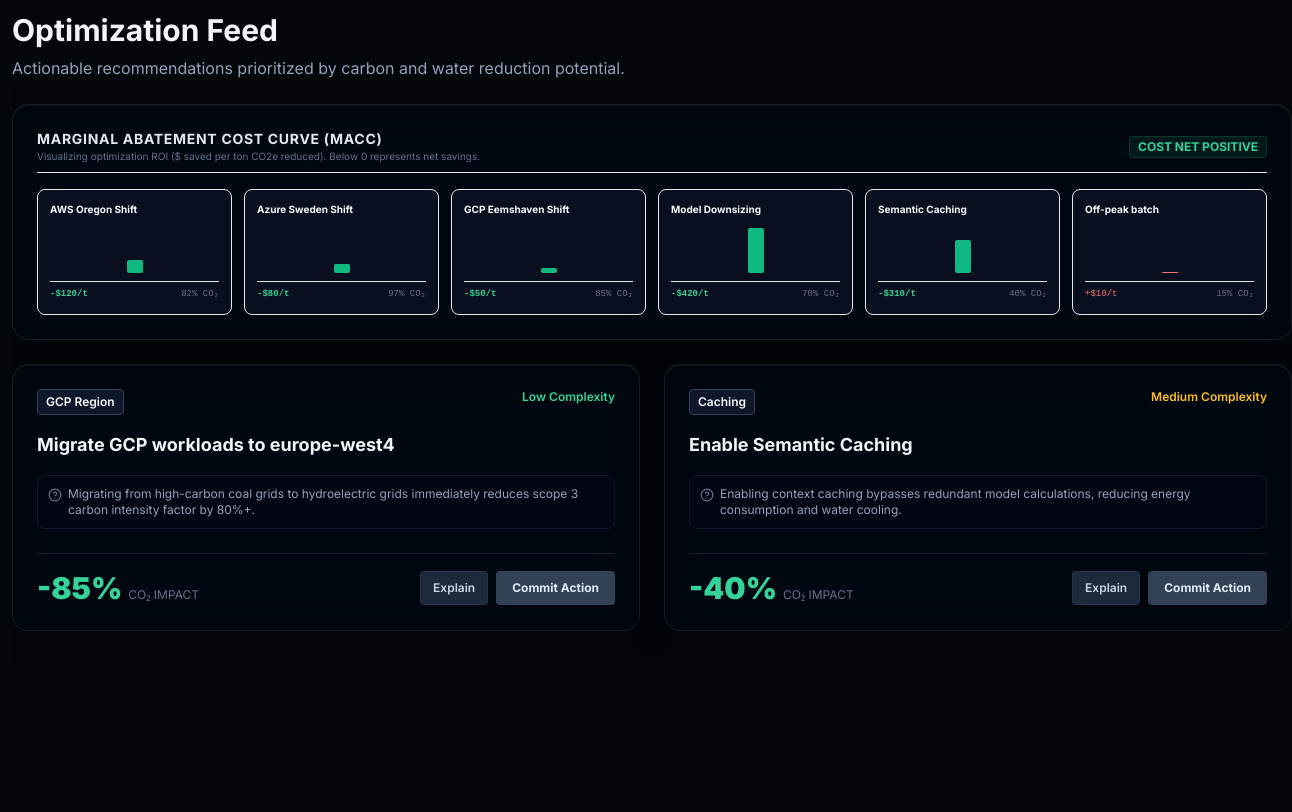
Test: RecommendationsView › toggles a committed recommendation back to uncommitted when clicked again
Click the button "Commit Action" below "Migrate GCP workloads to europe-west4" at (556, 588), box [496,570,615,604]
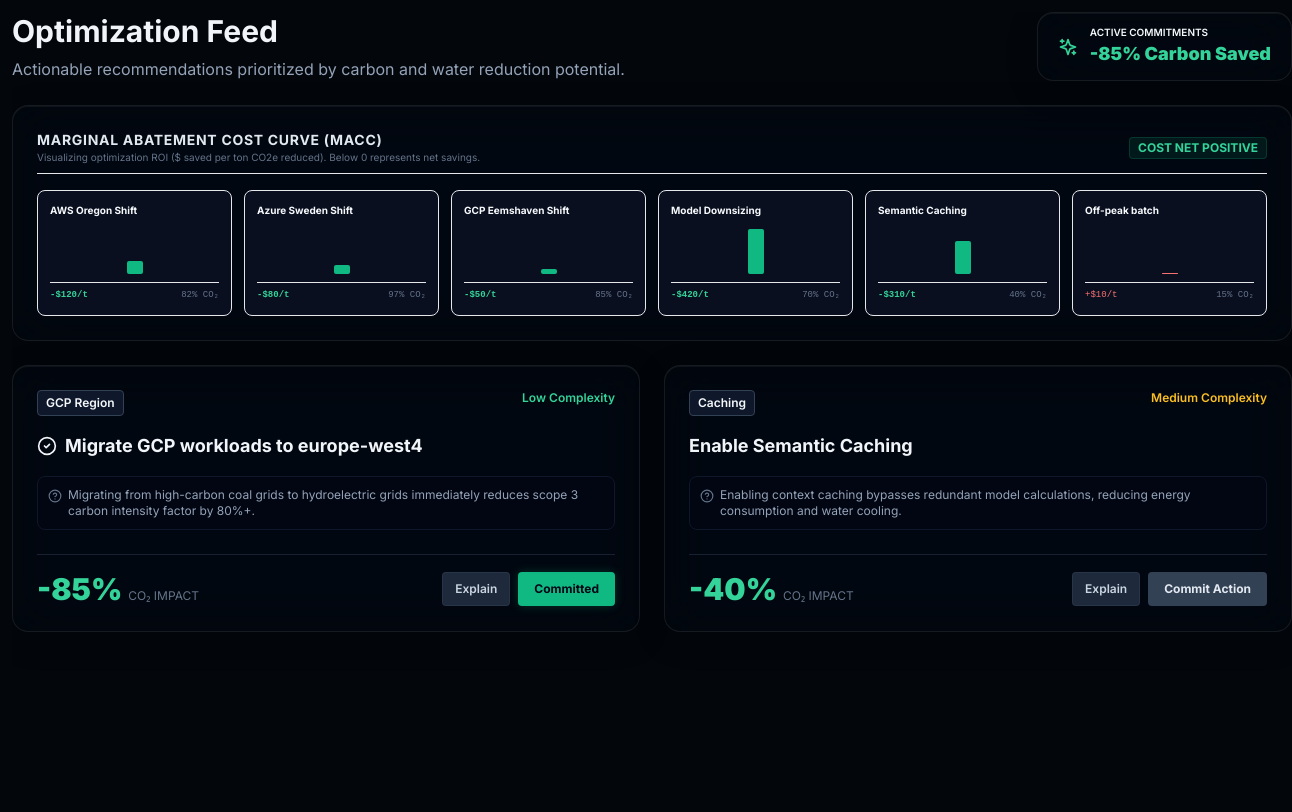
Now click "Committed" to un-commit
Click the button with aria-label "Cancel commitment" at (567, 588), box [518,572,615,606]
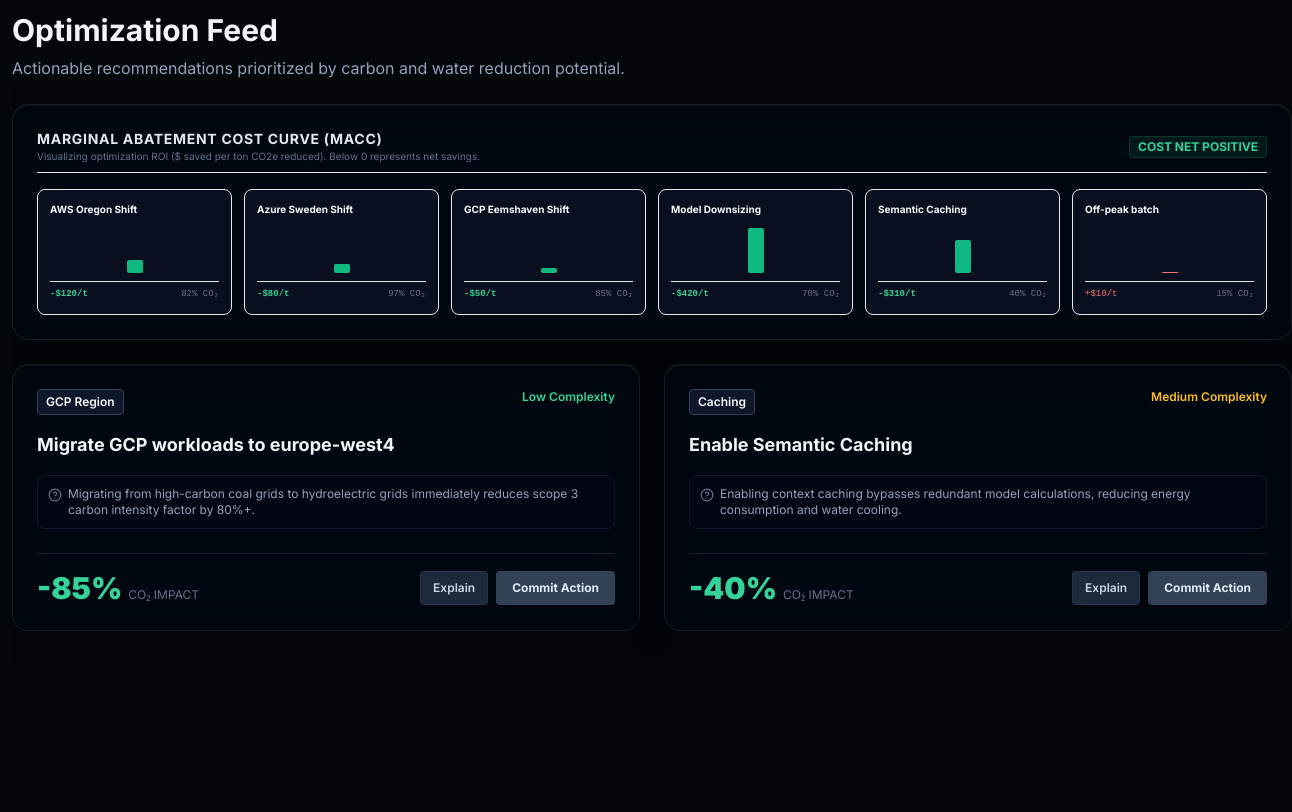
Check: the text "Active Commitments" is gone
